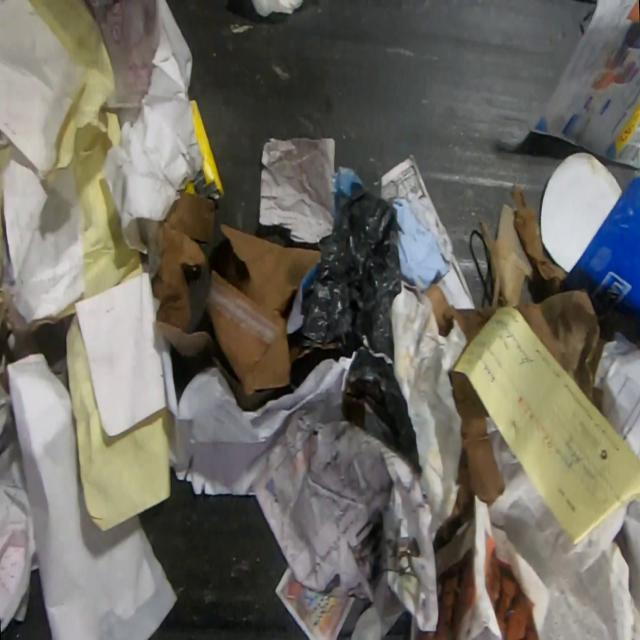cardboard: (204, 222, 342, 398), (539, 151, 640, 321), (136, 192, 217, 359), (511, 287, 608, 416), (439, 370, 506, 544), (510, 184, 570, 294), (477, 202, 535, 310), (177, 97, 226, 200), (422, 283, 496, 345), (344, 382, 398, 449)
soft_plastic: (284, 184, 421, 475), (251, 0, 304, 19)
